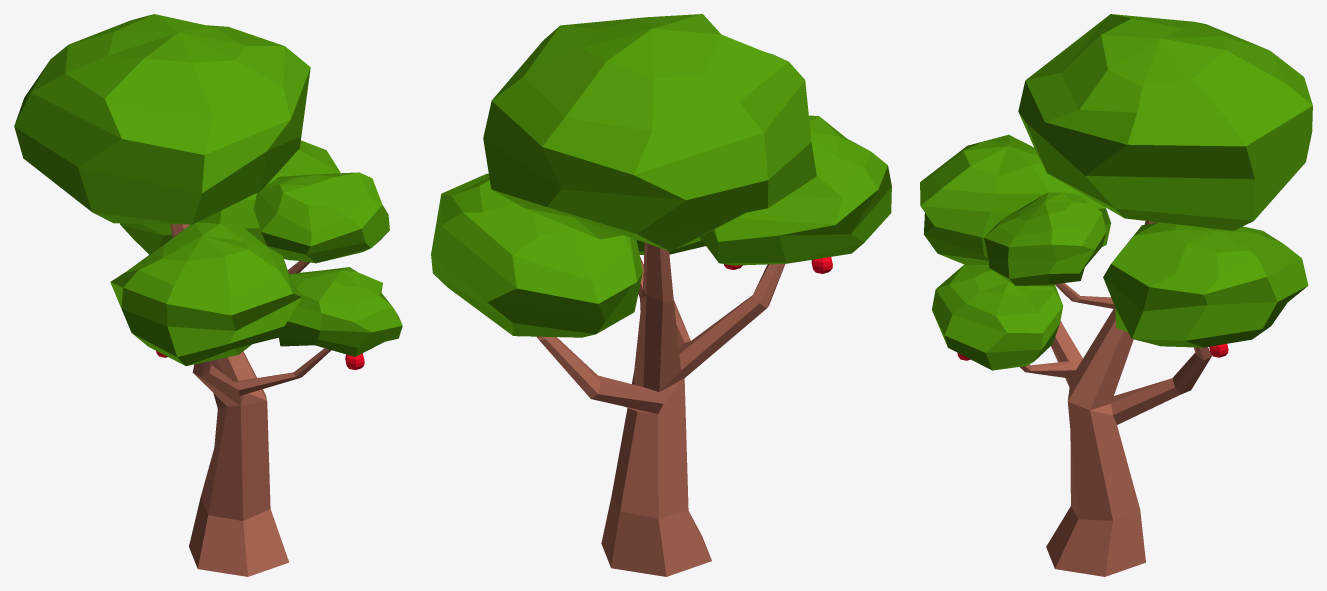
File: AppleTree_ingame.fbx
The picture shows the model from 3 angles, left to right: view 1: azimuth 30°, elevation 25°; view 2: azimuth 150°, elevation 25°; view 3: azimuth 270°, elevation 25°; orthographic projection. The views are drawn at different scales.
Visible parts, largest first — view 1: AppleTree.001, AppleTree; view 2: AppleTree.001, AppleTree; view 3: AppleTree.001, AppleTree.
Part boxes in pixels (left/top/right/bottom): AppleTree.001: left=14, top=14, right=402, bottom=365; AppleTree: left=170, top=224, right=331, bottom=576; AppleTree.001: left=431, top=14, right=891, bottom=337; AppleTree: left=537, top=243, right=785, bottom=576; AppleTree.001: left=920, top=14, right=1312, bottom=370; AppleTree: left=1020, top=221, right=1211, bottom=576.
Size of the model in its own units: 296 by 470 by 333.
